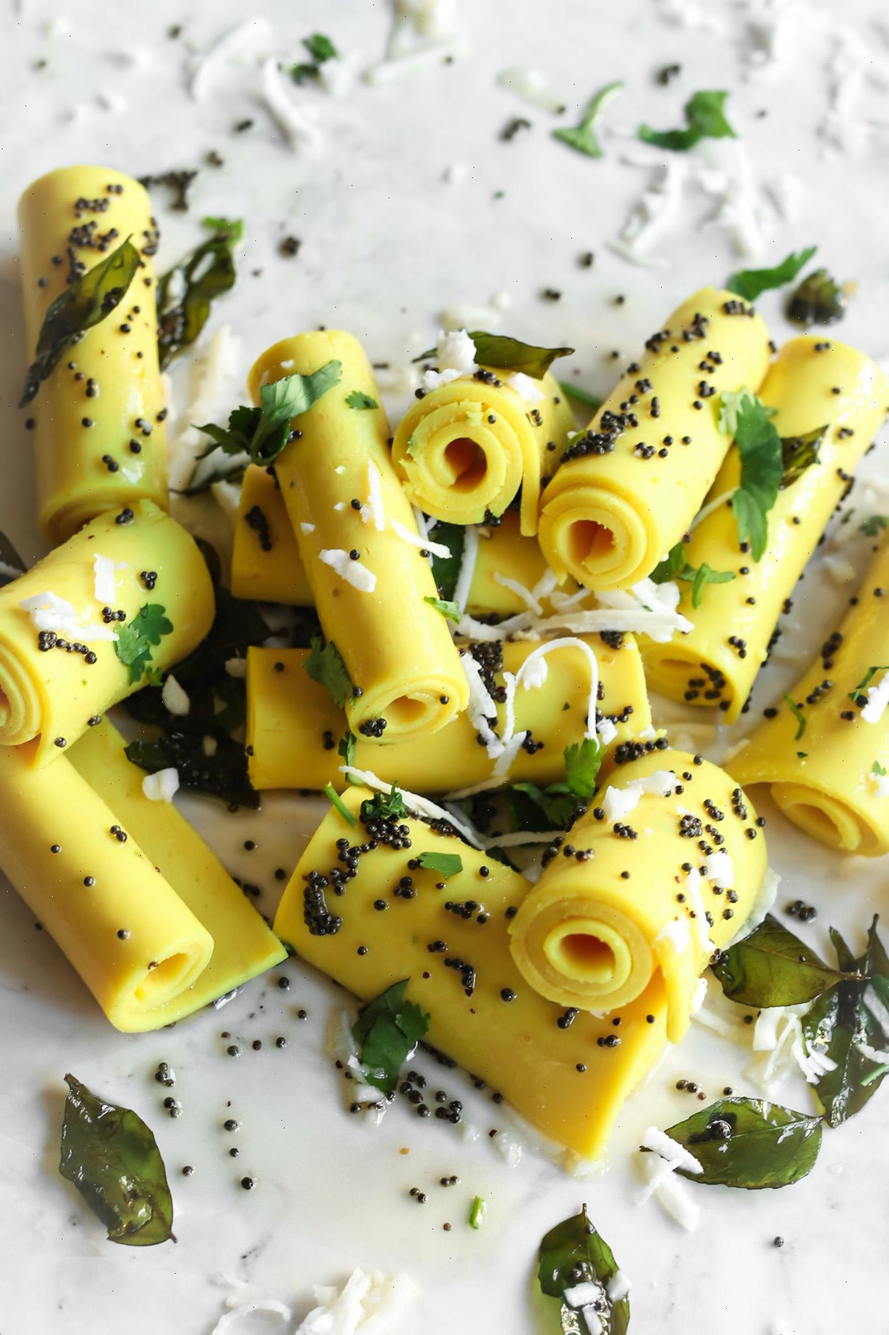khandvi: (3, 235, 889, 1151)
